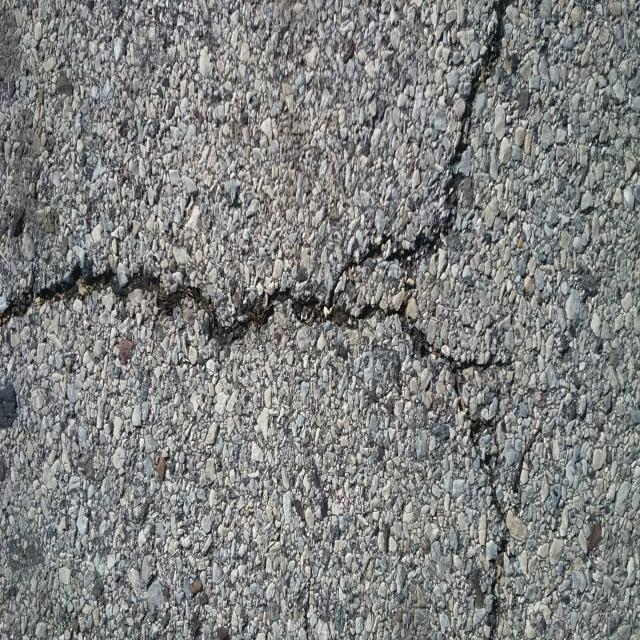Crack: (0, 0, 520, 640)
